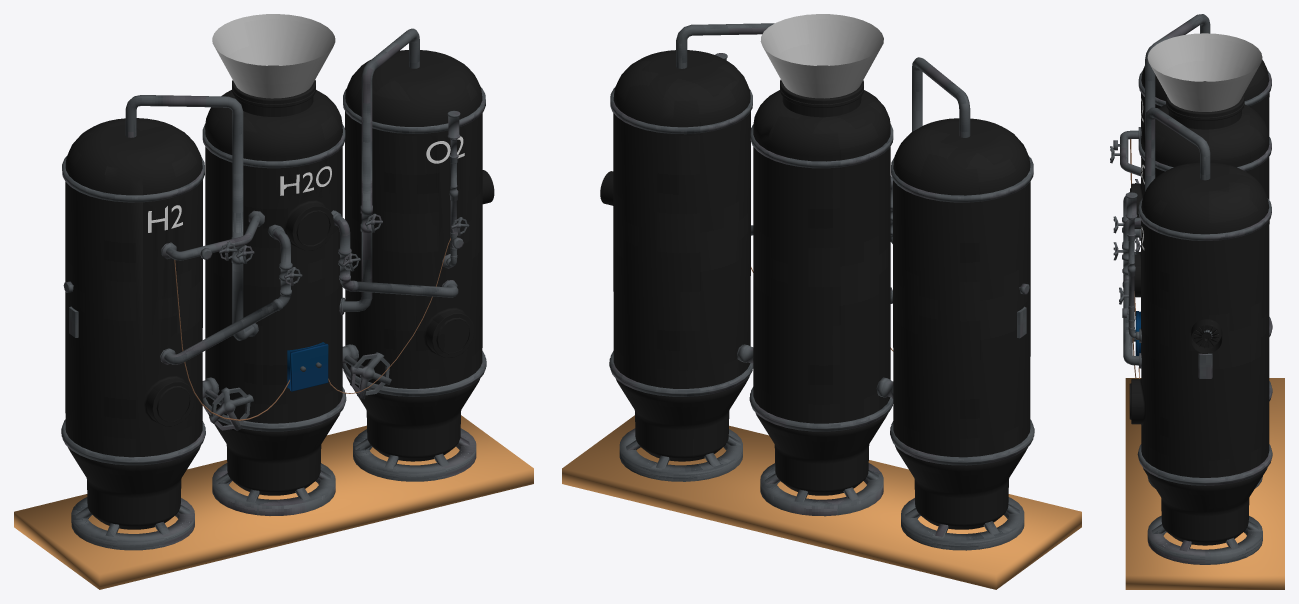
The model's file is oxygen_generator.glb.
3 renders of one model, left to right at view 1: azimuth 30°, elevation 25°; view 2: azimuth 150°, elevation 25°; view 3: azimuth 270°, elevation 25°, orthographic. The views are drawn at different scales.
Parts seen in each view (by area): view 1: Generator13_high; view 2: Generator13_high; view 3: Generator13_high, fan_shroud, fan.
Boxes of the visible parts, box(x1,y1,x2,y2) form: Generator13_high: box(14, 14, 533, 589); Generator13_high: box(562, 14, 1081, 589); Generator13_high: box(1110, 14, 1284, 589); fan_shroud: box(1191, 319, 1222, 353); fan: box(1194, 326, 1218, 347).
Bounding box in the file's own units: 2.9 × 2.98 × 1.09.
Materials: 10 (10 with a texture image).
